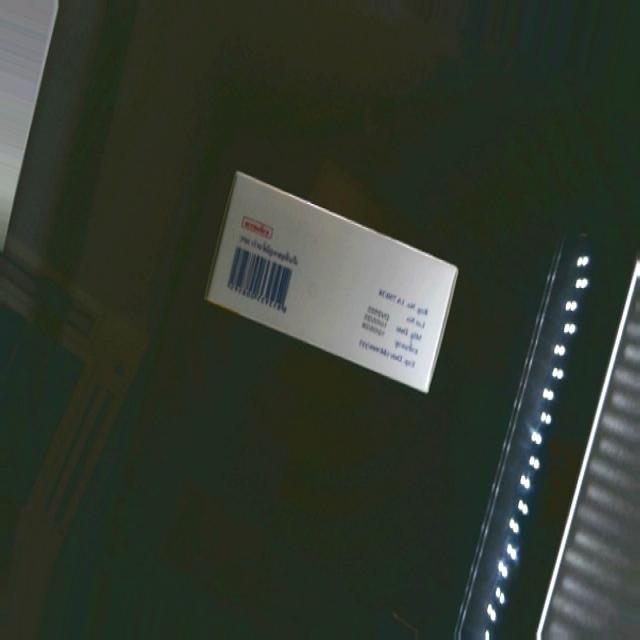sefloc: (186, 171, 476, 393)
